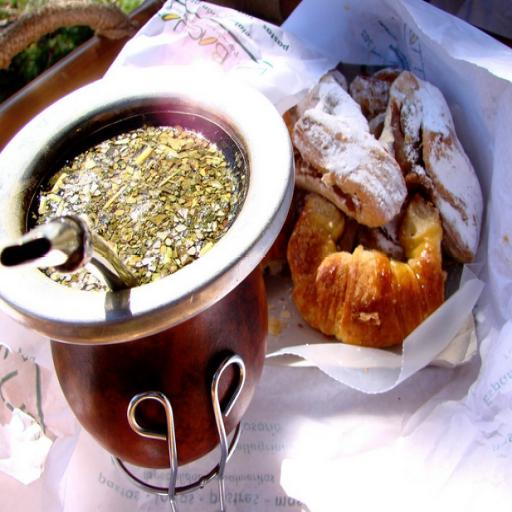bolleria: (287, 194, 443, 347), (381, 71, 482, 262), (291, 71, 406, 227)
mate: (0, 68, 292, 475)
